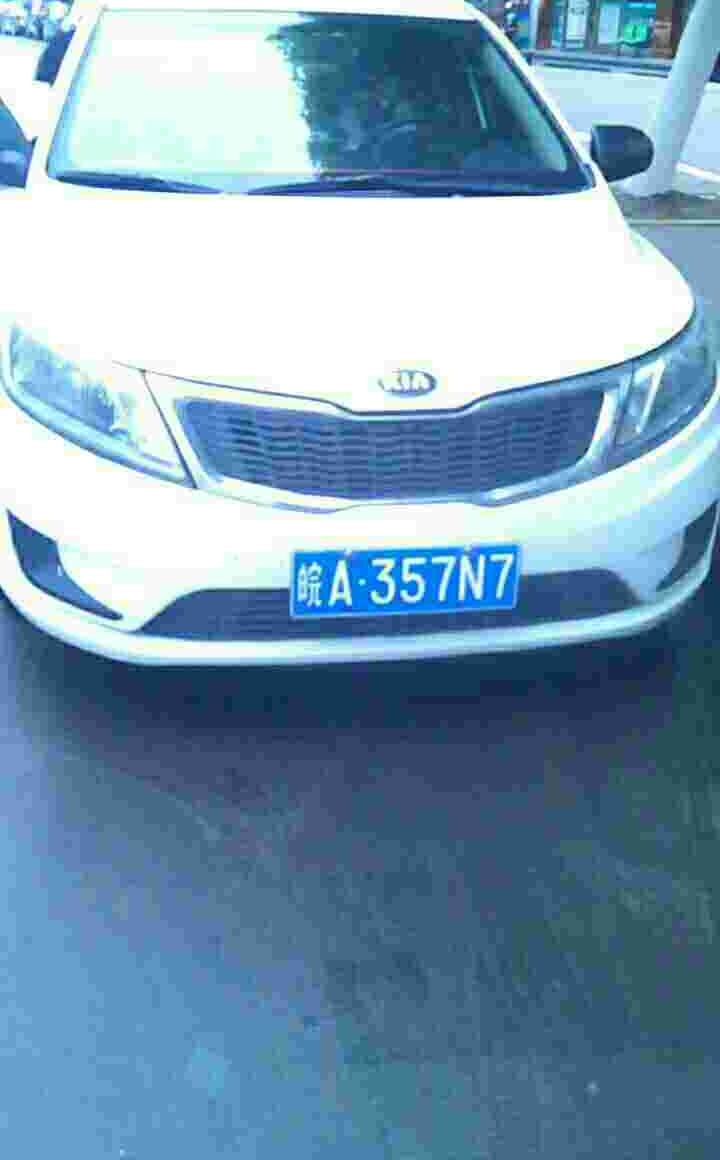plate: (293, 538, 526, 623)
